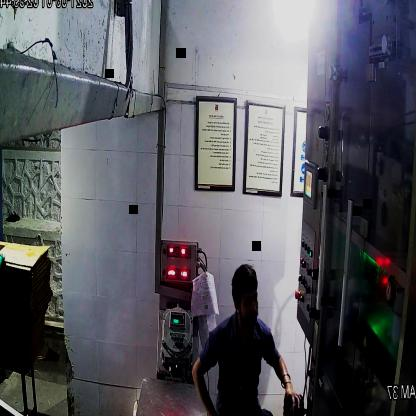no_goggles: (234, 284, 263, 312)
